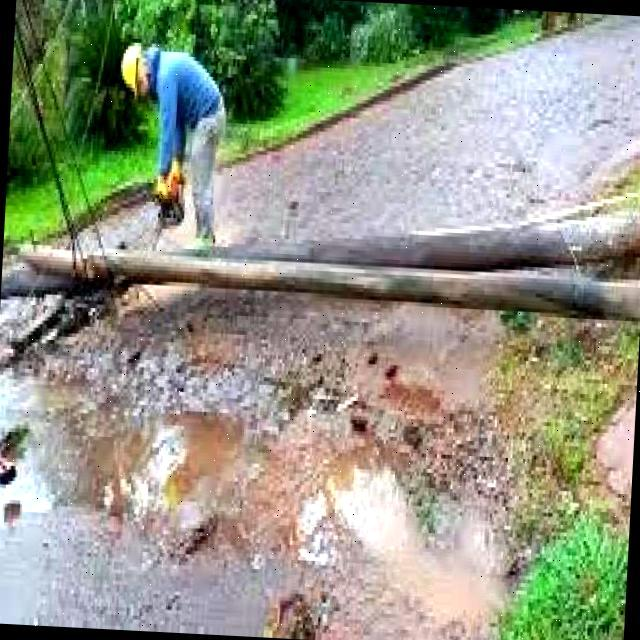Broken Pole: (3, 212, 640, 301), (19, 242, 640, 324)
